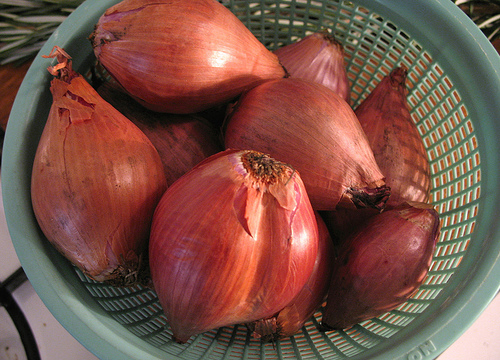onion: (28, 0, 449, 345)
